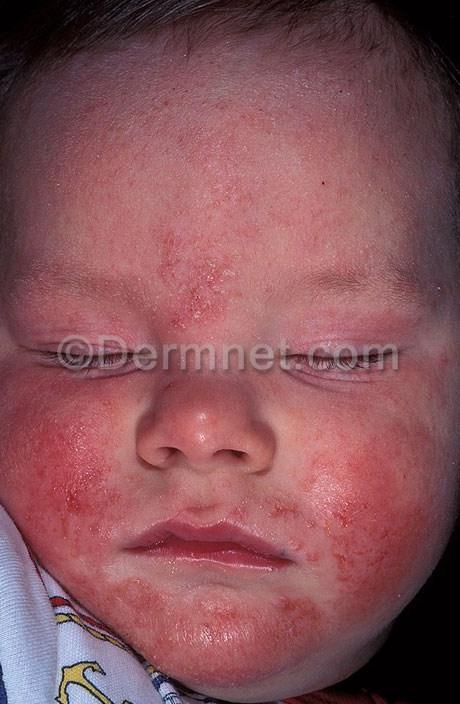Eritema 2: (0, 364, 435, 684)
eritema1: (155, 233, 246, 336)
exudacion 1: (268, 500, 403, 586), (18, 478, 95, 539)
xerosis 1: (155, 243, 245, 333)
